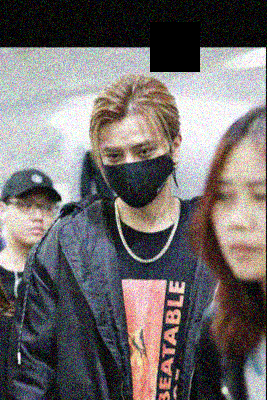with_mask: (100, 137, 173, 203)
without_mask: (209, 175, 265, 280), (6, 194, 55, 245)
